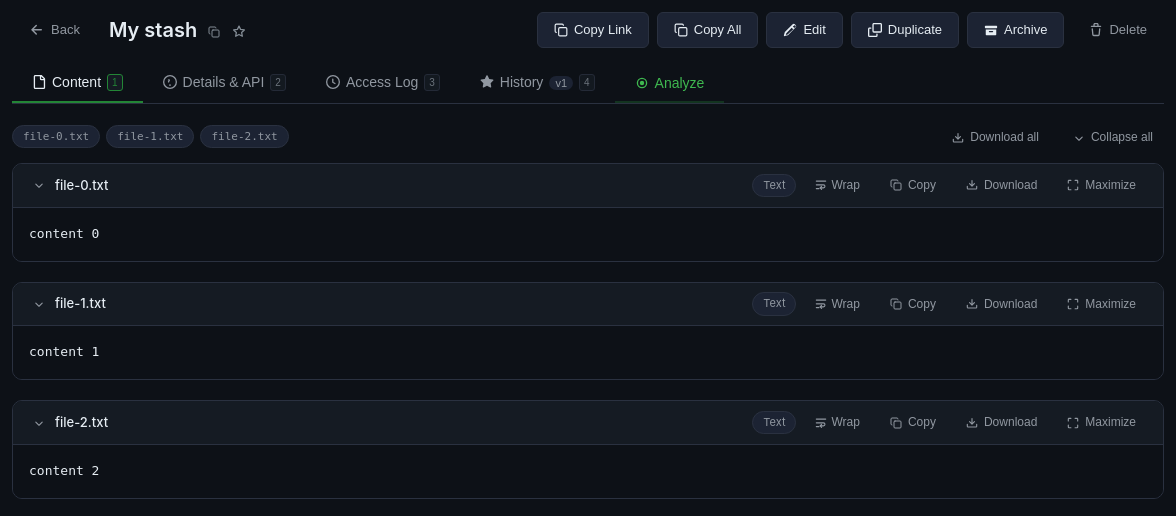
Test: StashViewer file quick-jump bar › expands a collapsed file before scrolling to it
The width and height of the screenshot is (1176, 516).
# Collapse file 1 through its own header toggle.
Click the button named "Collapse file-1.txt": (39, 304) x1=29 y1=294 x2=49 y2=314
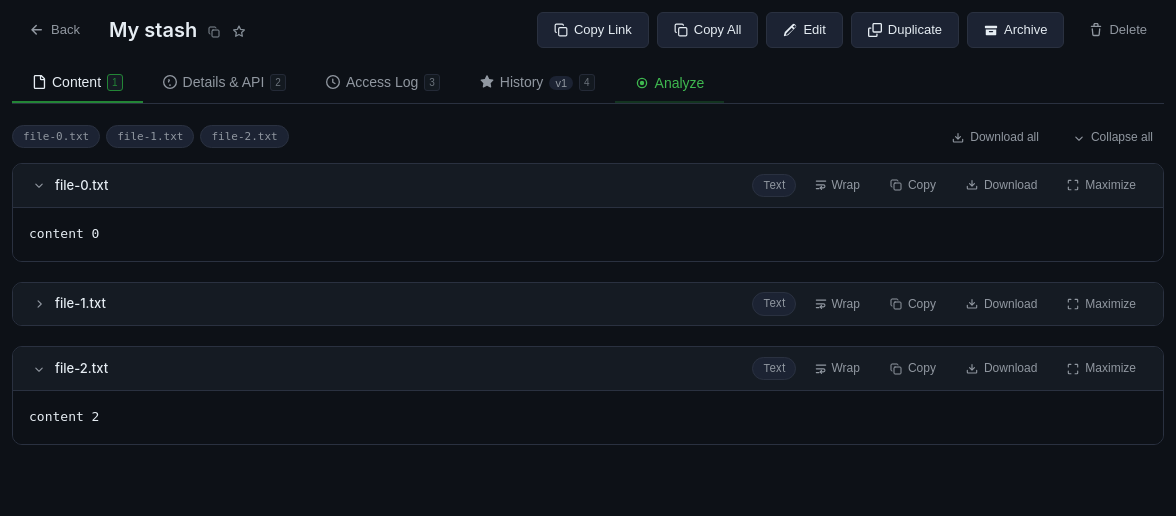
Result: the button named "Expand file-1.txt" is shown at x1=29 y1=294 x2=49 y2=314
Click the button titled "Jump to file-1.txt": (150, 137) x1=106 y1=125 x2=194 y2=148
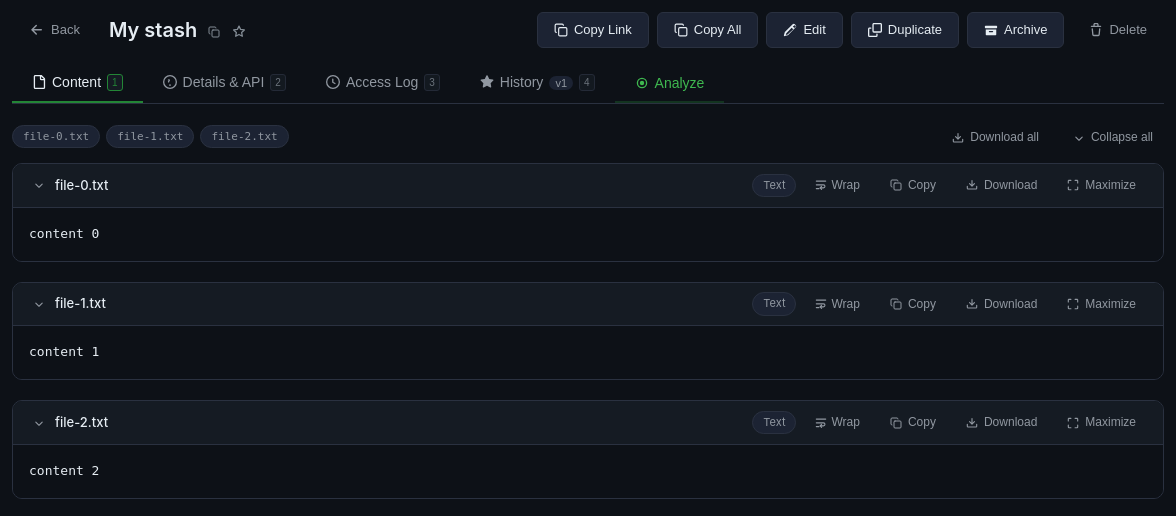
Result: the button named "Collapse file-1.txt" is shown at x1=29 y1=294 x2=49 y2=314
Result: the element with class "file-content" showing "content 1" is shown at x1=13 y1=326 x2=1163 y2=379
